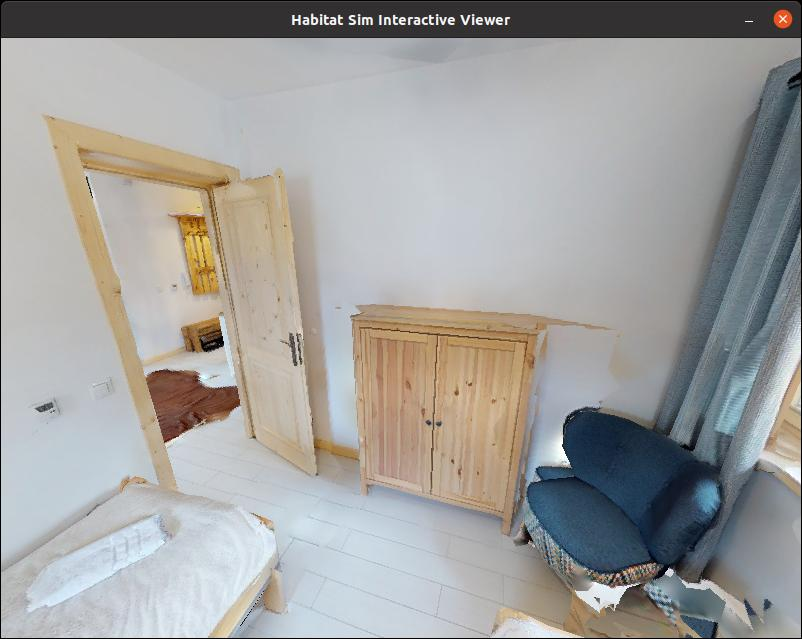bed: (0, 463, 319, 639)
door: (222, 169, 319, 482)
door-frame: (96, 115, 267, 507)
sofa: (510, 403, 747, 616)
